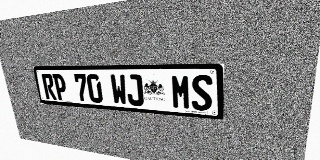0: (86, 74, 103, 103)
7: (73, 74, 90, 102)
J: (125, 74, 144, 106)
M: (171, 75, 191, 110)
P: (52, 74, 68, 101)
R: (41, 74, 57, 100)
S: (191, 75, 212, 111)
W: (110, 74, 128, 105)
